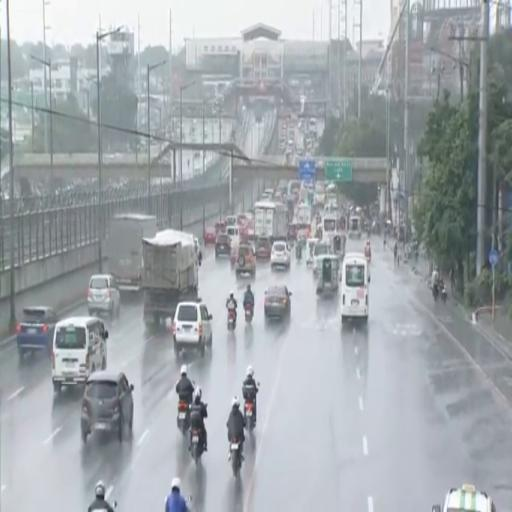car: (52, 317, 108, 393), (81, 371, 133, 442), (16, 307, 58, 359), (172, 301, 212, 355), (432, 484, 495, 511), (88, 275, 120, 317), (264, 285, 291, 319), (236, 244, 255, 277), (271, 242, 290, 269), (214, 233, 230, 258), (255, 237, 271, 259), (203, 226, 217, 245), (230, 247, 238, 268), (215, 221, 226, 233)
motorcycle: (230, 439, 242, 477), (177, 402, 190, 435), (191, 429, 203, 463), (245, 399, 254, 431), (227, 309, 236, 329), (245, 302, 253, 323), (439, 283, 447, 302), (433, 284, 439, 301), (365, 248, 371, 264), (296, 244, 302, 260)
truck: (142, 229, 200, 326), (106, 214, 157, 292), (254, 201, 288, 242), (294, 203, 311, 227), (314, 182, 326, 206)
